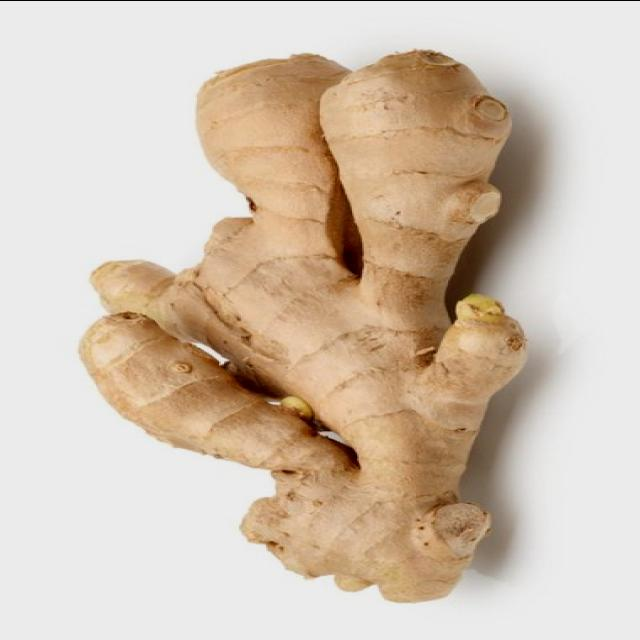ginger-root: (73, 38, 545, 610)
